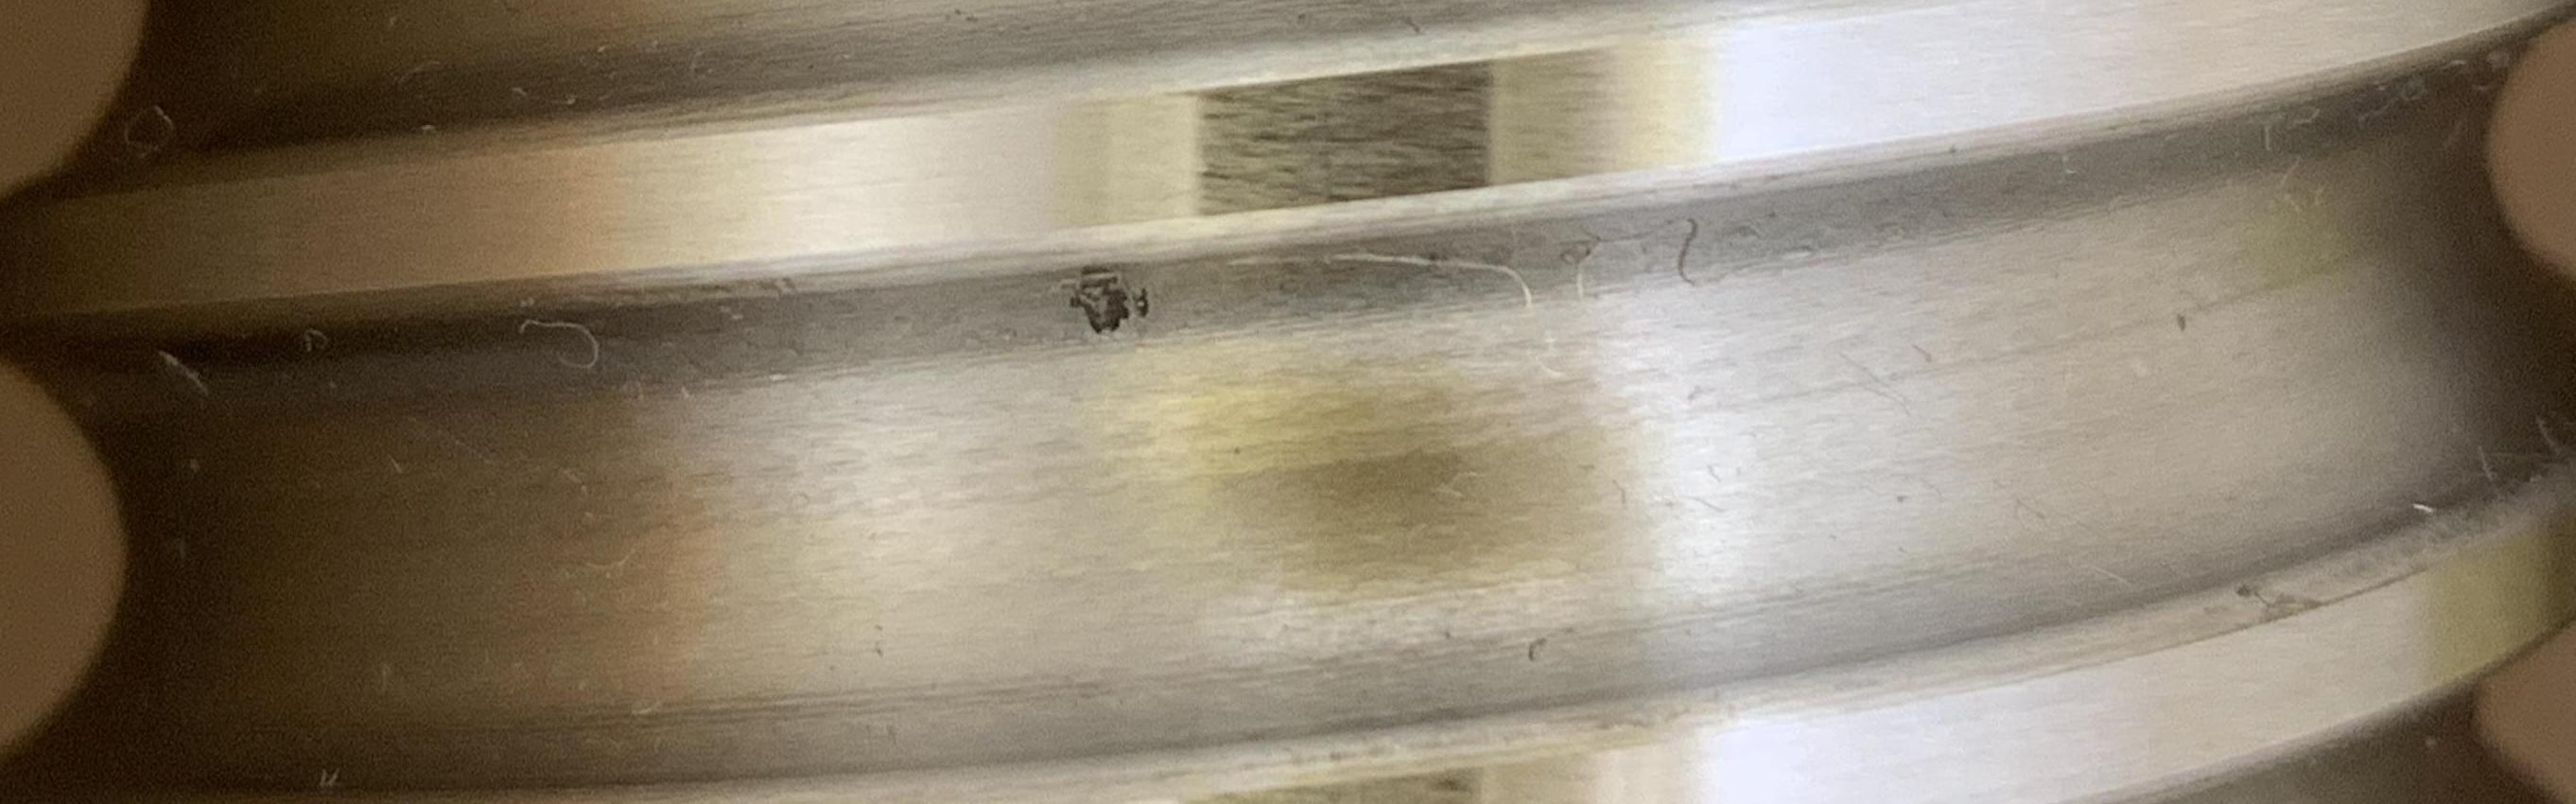pitting: (1059, 266, 1148, 335)
